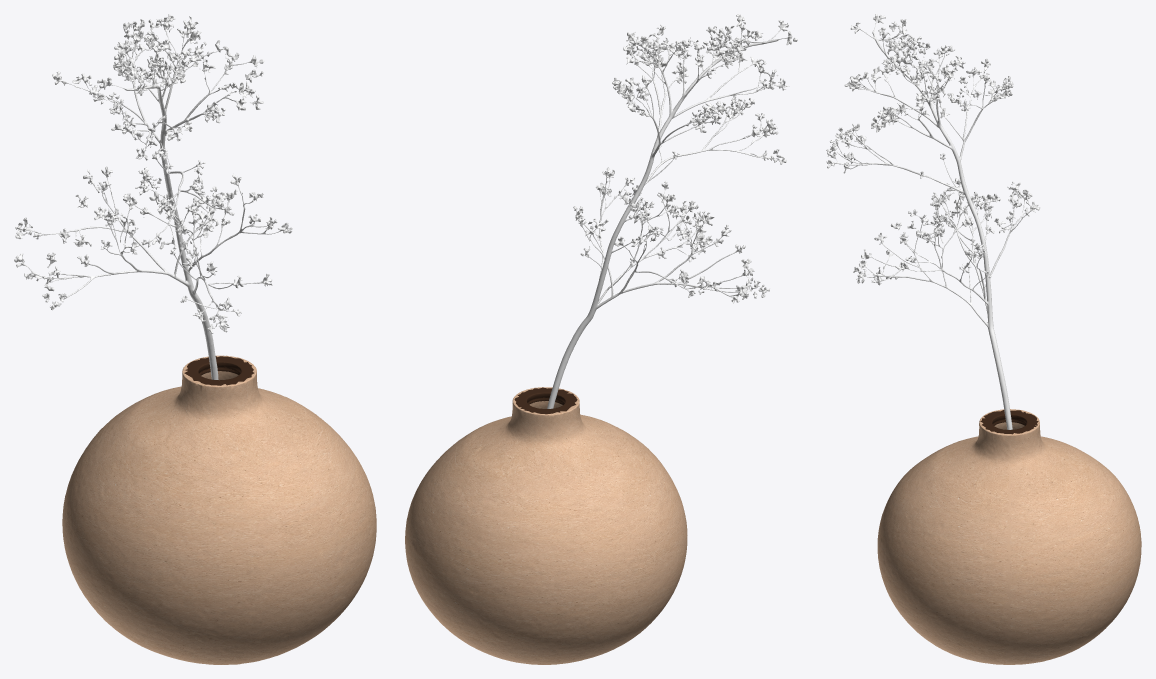
Rendered from pot_vase_model.glb.
3 views of the same model, side by side, from view 1: azimuth 30°, elevation 25°; view 2: azimuth 150°, elevation 25°; view 3: azimuth 270°, elevation 25° (orthographic). The views are drawn at different scales.
Parts seen in each view (by area): view 1: Meshy_Mesh1.0; view 2: Meshy_Mesh1.0; view 3: Meshy_Mesh1.0.
Boxes of the visible parts, x1,y1,x2,y2 form: Meshy_Mesh1.0: [14, 14, 376, 664]; Meshy_Mesh1.0: [405, 14, 797, 664]; Meshy_Mesh1.0: [826, 14, 1141, 664].
Bounding box in the file's own units: 1.04 × 1.9 × 0.9775.
7 materials, 2 textured.
